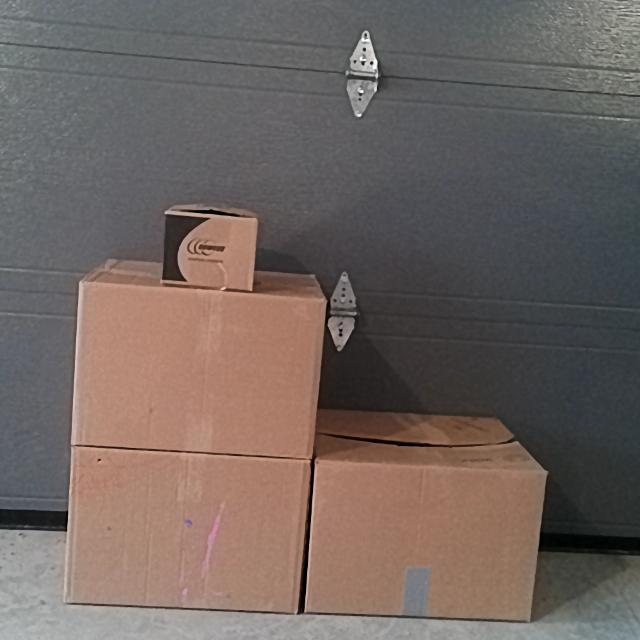box: (73, 298, 324, 449), (71, 454, 304, 607), (312, 466, 536, 616), (163, 211, 254, 291)
